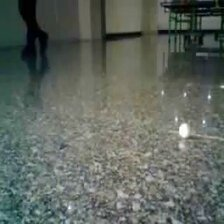w: (177, 121, 192, 139)
